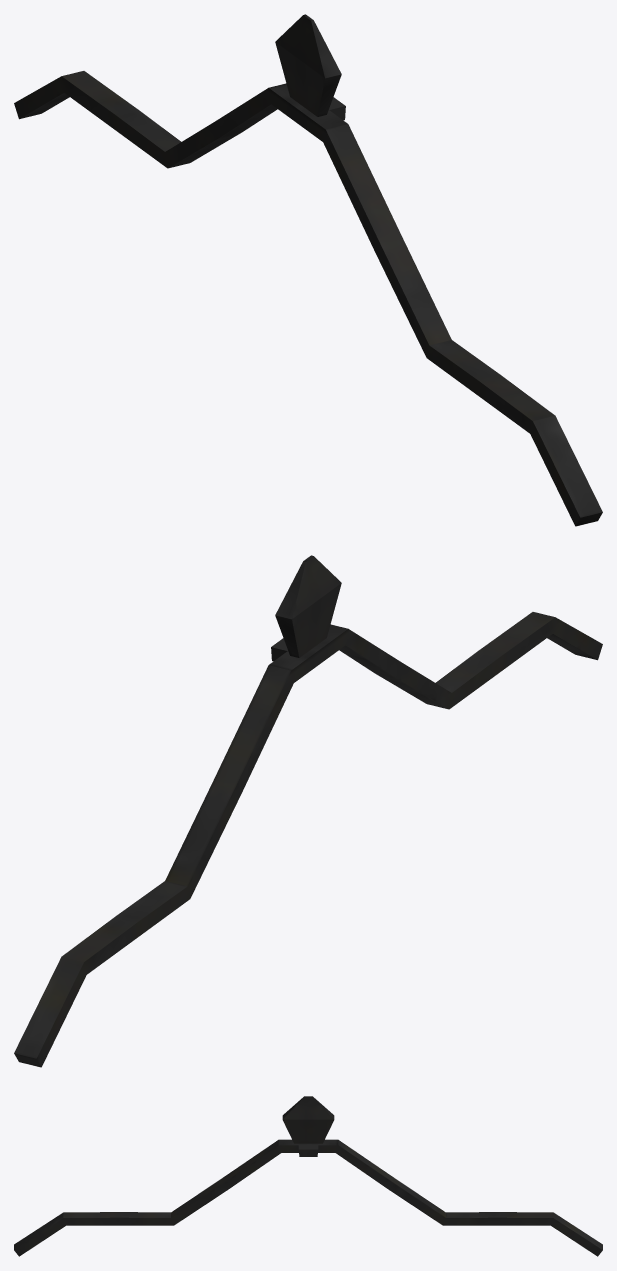
The model's file is PortaoZefir.fbx.
The picture shows the model from 3 angles, top to bottom: view 1: azimuth 30°, elevation 25°; view 2: azimuth 150°, elevation 25°; view 3: azimuth 270°, elevation 25°; orthographic projection. The views are drawn at different scales.
Visible parts, largest first — view 1: PortaoSemporta; view 2: PortaoSemporta; view 3: PortaoSemporta.
Part boxes in pixels (box(x1,y1,x2,y2)): PortaoSemporta: box(14, 14, 602, 526); PortaoSemporta: box(14, 555, 602, 1067); PortaoSemporta: box(14, 1096, 602, 1256).
Size of the model in its own units: 60.71 by 448 by 1519.
1 material, 1 textured.
